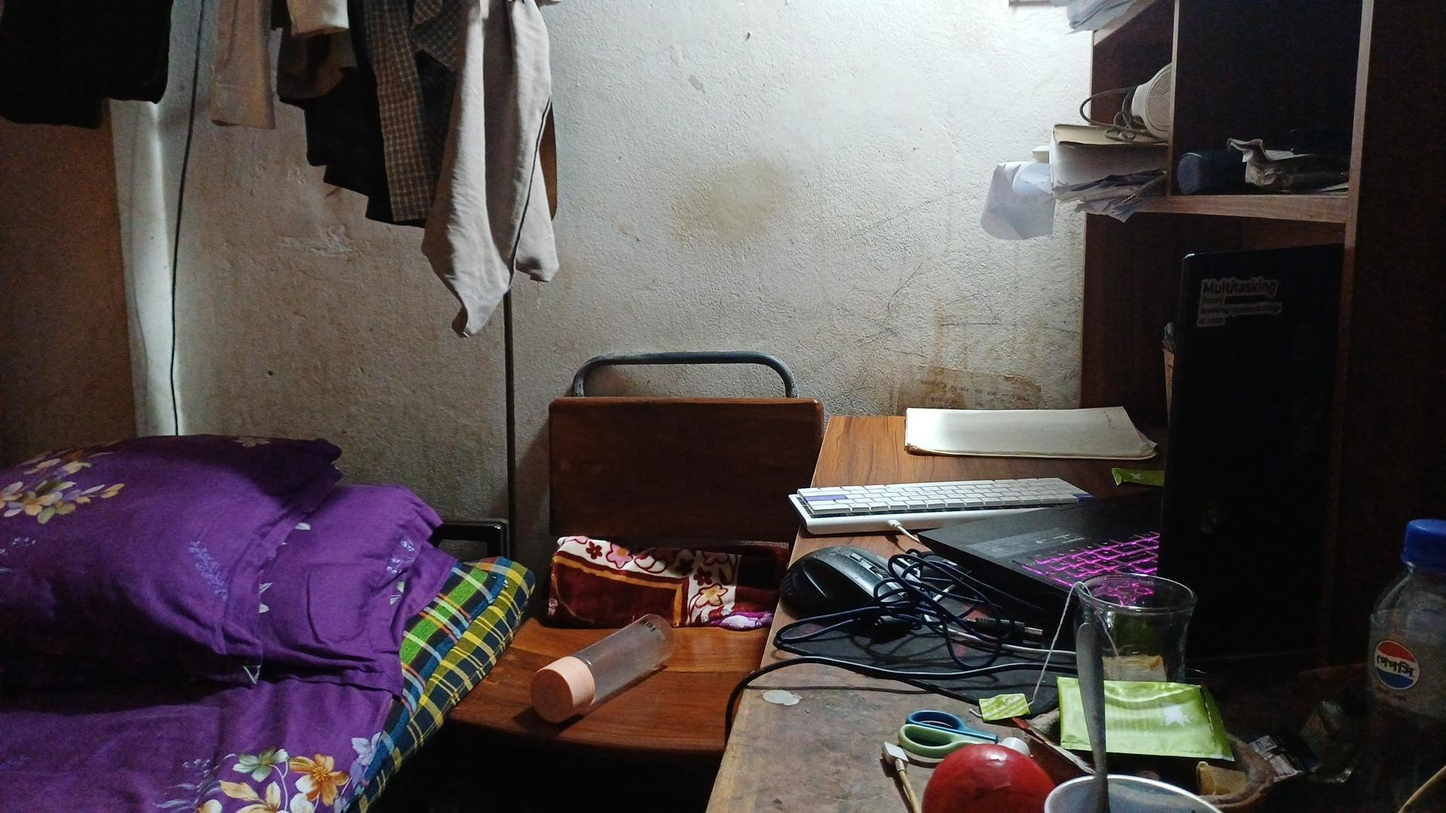Bottle: (1337, 527, 1446, 749), (530, 601, 721, 711)
Chair: (501, 309, 809, 792)
Cup: (1014, 585, 1221, 692)
Keyboard: (804, 453, 1080, 559)
Laptop: (1092, 210, 1341, 653)
Notebook: (867, 373, 1151, 465)
Pillow: (10, 407, 420, 692)
